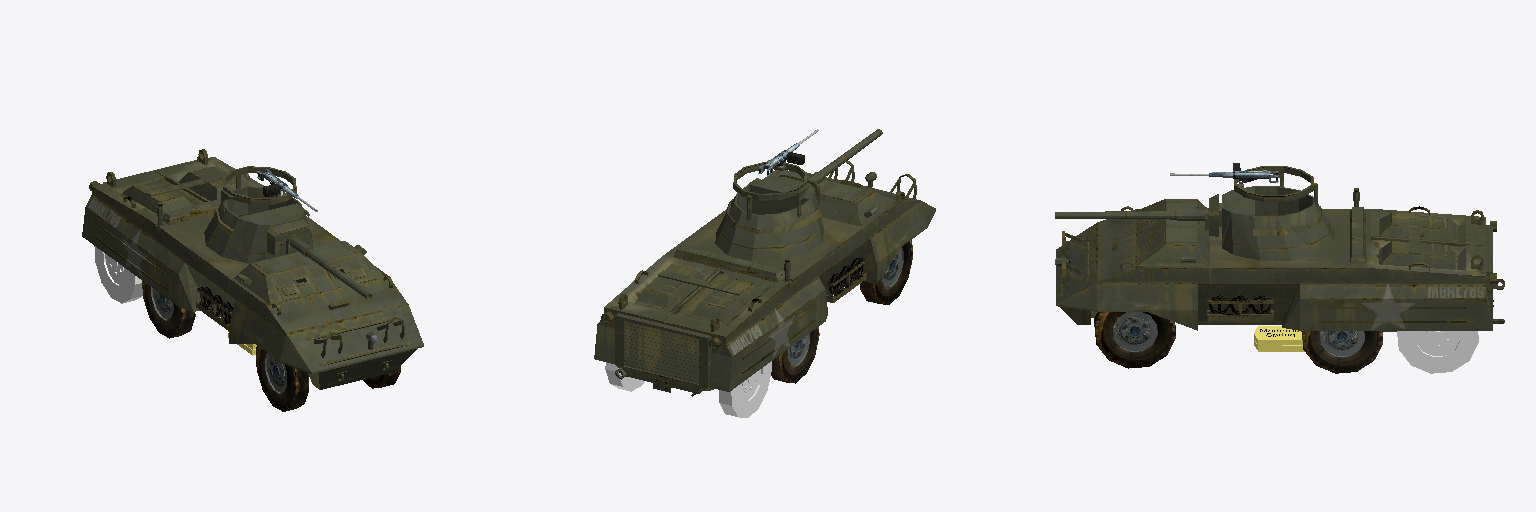
3 renders of one model, left to right at view 1: azimuth 30°, elevation 25°; view 2: azimuth 150°, elevation 25°; view 3: azimuth 270°, elevation 25°, orthographic.
Visible parts, largest first — view 1: 01Skp Mesh[Front Side], 02Skp Mesh[Front Side], Skp Mesh[Front Side], 04Skp Mesh[Front Side], 03Skp Mesh[Front Side]; view 2: 01Skp Mesh[Front Side], Skp Mesh[Front Side], 02Skp Mesh[Front Side], 04Skp Mesh[Front Side], 03Skp Mesh[Front Side]; view 3: 02Skp Mesh[Front Side], 01Skp Mesh[Front Side], Skp Mesh[Front Side], 03Skp Mesh[Front Side], Spring01, 04Skp Mesh[Front Side].
Part boxes in pixels (x1,y1,x2,y2): 01Skp Mesh[Front Side]: (92,150,423,411); 02Skp Mesh[Front Side]: (82,152,406,411); Skp Mesh[Front Side]: (95,149,411,382); 04Skp Mesh[Front Side]: (103,169,423,393); 03Skp Mesh[Front Side]: (105,166,364,392); 01Skp Mesh[Front Side]: (605,154,916,417); Skp Mesh[Front Side]: (603,129,903,391); 02Skp Mesh[Front Side]: (605,155,935,416); 04Skp Mesh[Front Side]: (594,151,903,400); 03Skp Mesh[Front Side]: (654,152,901,399); 02Skp Mesh[Front Side]: (1056,167,1504,340); 01Skp Mesh[Front Side]: (1056,186,1504,373); Skp Mesh[Front Side]: (1055,170,1502,345); 03Skp Mesh[Front Side]: (1091,163,1459,355); Spring01: (1254,326,1302,345); 04Skp Mesh[Front Side]: (1113,168,1492,356).
Bounding box in the file's own units: 286 × 352 × 816.
Materials: 24 (18 with a texture image).